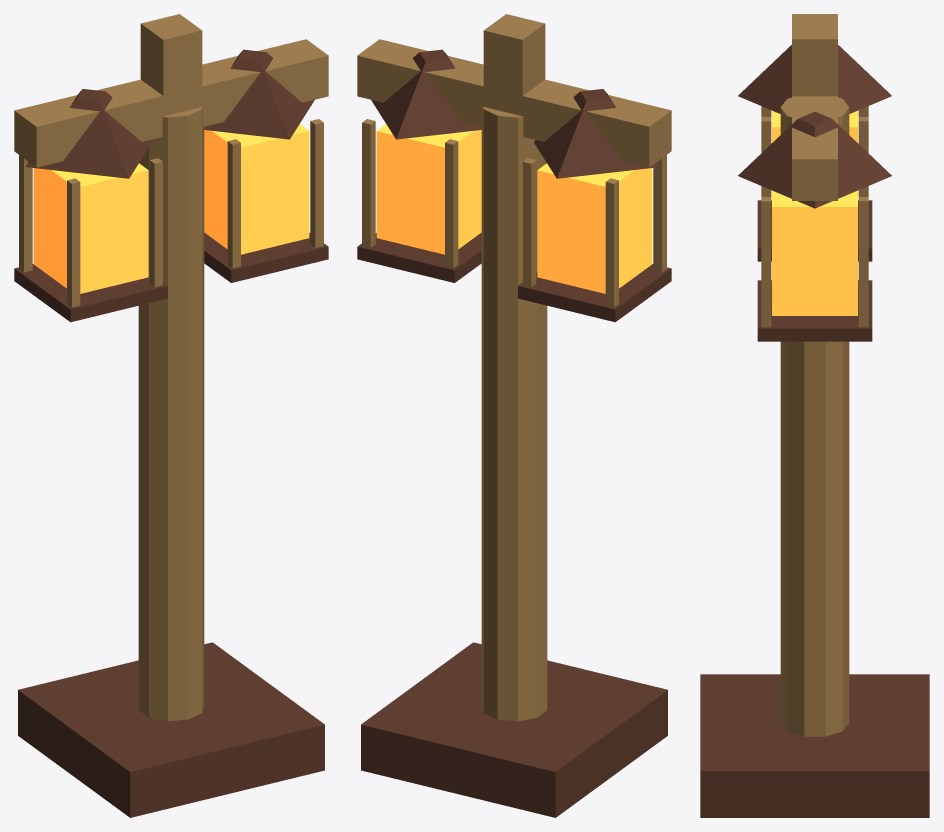
File: lantern_gate.glb
3 views of the same model, side by side, from view 1: azimuth 30°, elevation 25°; view 2: azimuth 150°, elevation 25°; view 3: azimuth 270°, elevation 25° (orthographic).
Parts seen in each view (by area): view 1: GatePost, GateBase, GateCrossArm, LeftLanternGlow, RightLanternGlow, GateFinial, LeftLanternRoof, RightLanternRoof, LeftLanternBottom, RightLanternBottom, LeftLanternFrame_0.17_-0.17, LeftLanternFrame_-0.17_-0.17 (+3 smaller); view 2: GatePost, GateBase, GateCrossArm, LeftLanternGlow, RightLanternGlow, GateFinial, LeftLanternRoof, RightLanternRoof, LeftLanternBottom, RightLanternBottom, LeftLanternFrame_0.17_0.17, LeftLanternFrame_-0.17_0.17 (+3 smaller); view 3: GateBase, GatePost, RightLanternGlow, RightLanternRoof, GateCrossArm, LeftLanternRoof, GateFinial, RightLanternBottom, RightLanternFrame_0.17_0.17, RightLanternFrame_0.17_-0.17, LeftLanternBottom, LeftLanternGlow.
Boxes of the visible parts, x1=… form: GatePost: x1=138, y1=106, x2=204, y2=721; GateBase: x1=18, y1=642, x2=324, y2=817; GateCrossArm: x1=14, y1=39, x2=328, y2=167; LeftLanternGlow: x1=33, y1=163, x2=148, y2=293; RightLanternGlow: x1=204, y1=124, x2=309, y2=254; GateFinial: x1=140, y1=14, x2=202, y2=115; LeftLanternRoof: x1=25, y1=89, x2=151, y2=178; RightLanternRoof: x1=204, y1=49, x2=314, y2=139; LeftLanternBottom: x1=14, y1=264, x2=167, y2=322; RightLanternBottom: x1=204, y1=232, x2=328, y2=282; LeftLanternFrame_0.17_-0.17: x1=149, y1=158, x2=162, y2=287; LeftLanternFrame_-0.17_-0.17: x1=67, y1=178, x2=80, y2=307; GatePost: x1=481, y1=106, x2=547, y2=721; GateBase: x1=361, y1=642, x2=667, y2=817; GateCrossArm: x1=357, y1=39, x2=671, y2=167; LeftLanternGlow: x1=537, y1=163, x2=652, y2=293; RightLanternGlow: x1=376, y1=124, x2=481, y2=254; GateFinial: x1=483, y1=14, x2=545, y2=115; LeftLanternRoof: x1=534, y1=89, x2=660, y2=178; RightLanternRoof: x1=371, y1=49, x2=481, y2=139; LeftLanternBottom: x1=518, y1=264, x2=671, y2=322; RightLanternBottom: x1=357, y1=232, x2=481, y2=282; LeftLanternFrame_0.17_0.17: x1=523, y1=158, x2=536, y2=287; LeftLanternFrame_-0.17_0.17: x1=605, y1=178, x2=618, y2=307; GateBase: x1=700, y1=674, x2=929, y2=817; GatePost: x1=780, y1=97, x2=849, y2=736; RightLanternGlow: x1=772, y1=190, x2=857, y2=315; RightLanternRoof: x1=738, y1=111, x2=891, y2=208; GateCrossArm: x1=792, y1=14, x2=837, y2=200; LeftLanternRoof: x1=738, y1=45, x2=891, y2=113; GateFinial: x1=792, y1=20, x2=837, y2=96; RightLanternBottom: x1=757, y1=280, x2=872, y2=341; RightLanternFrame_0.17_0.17: x1=858, y1=197, x2=868, y2=327; RightLanternFrame_0.17_-0.17: x1=761, y1=197, x2=771, y2=327; LeftLanternBottom: x1=757, y1=200, x2=872, y2=261; LeftLanternGlow: x1=772, y1=110, x2=857, y2=142.
Size of what is drawn, in the model's own units: 1.2 by 2.85 by 0.8.
